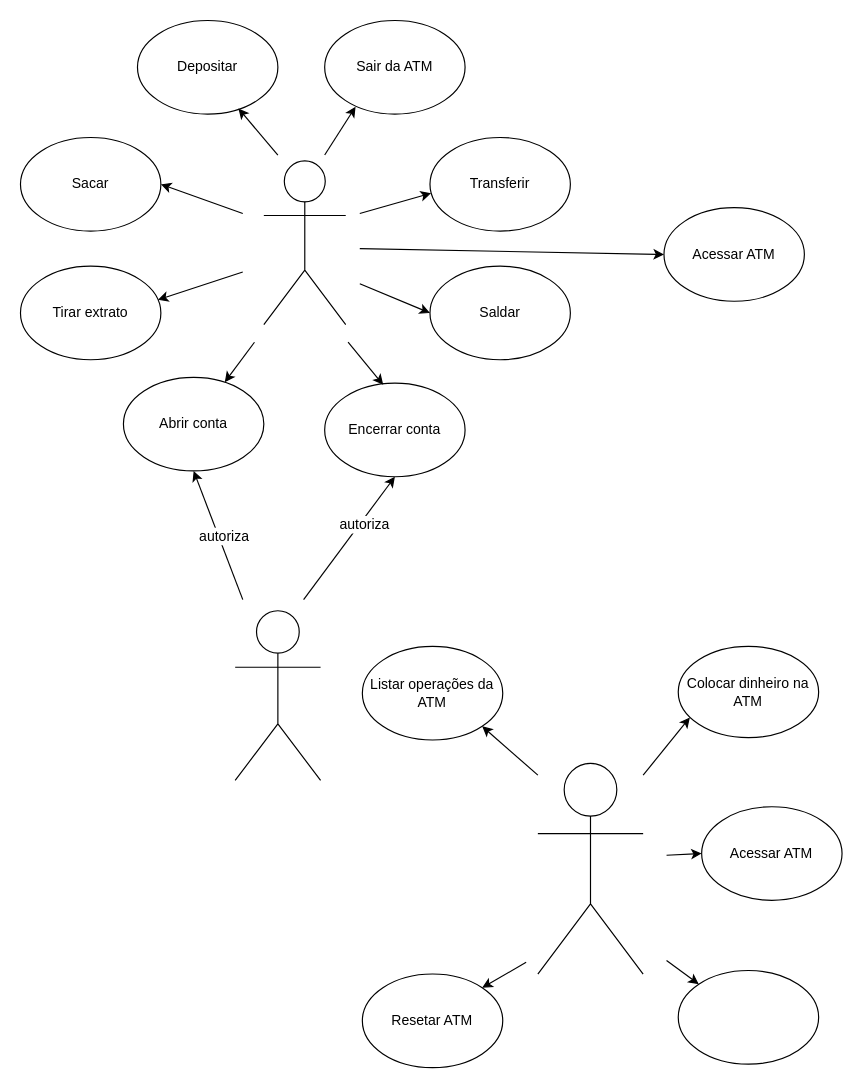
The diagram is 863 pixels wide and 1088 high, and some of its shapes have lost their labels. The shapes that lost their labels are listed below. From the top down, each one's box as (x1, y1, x2, y2) in pixels, then its label:
(263, 160, 346, 325): Jorge
(234, 610, 321, 780): Banco
(537, 762, 643, 974): Marcelo
(677, 969, 819, 1064): Saldar notas ATM
